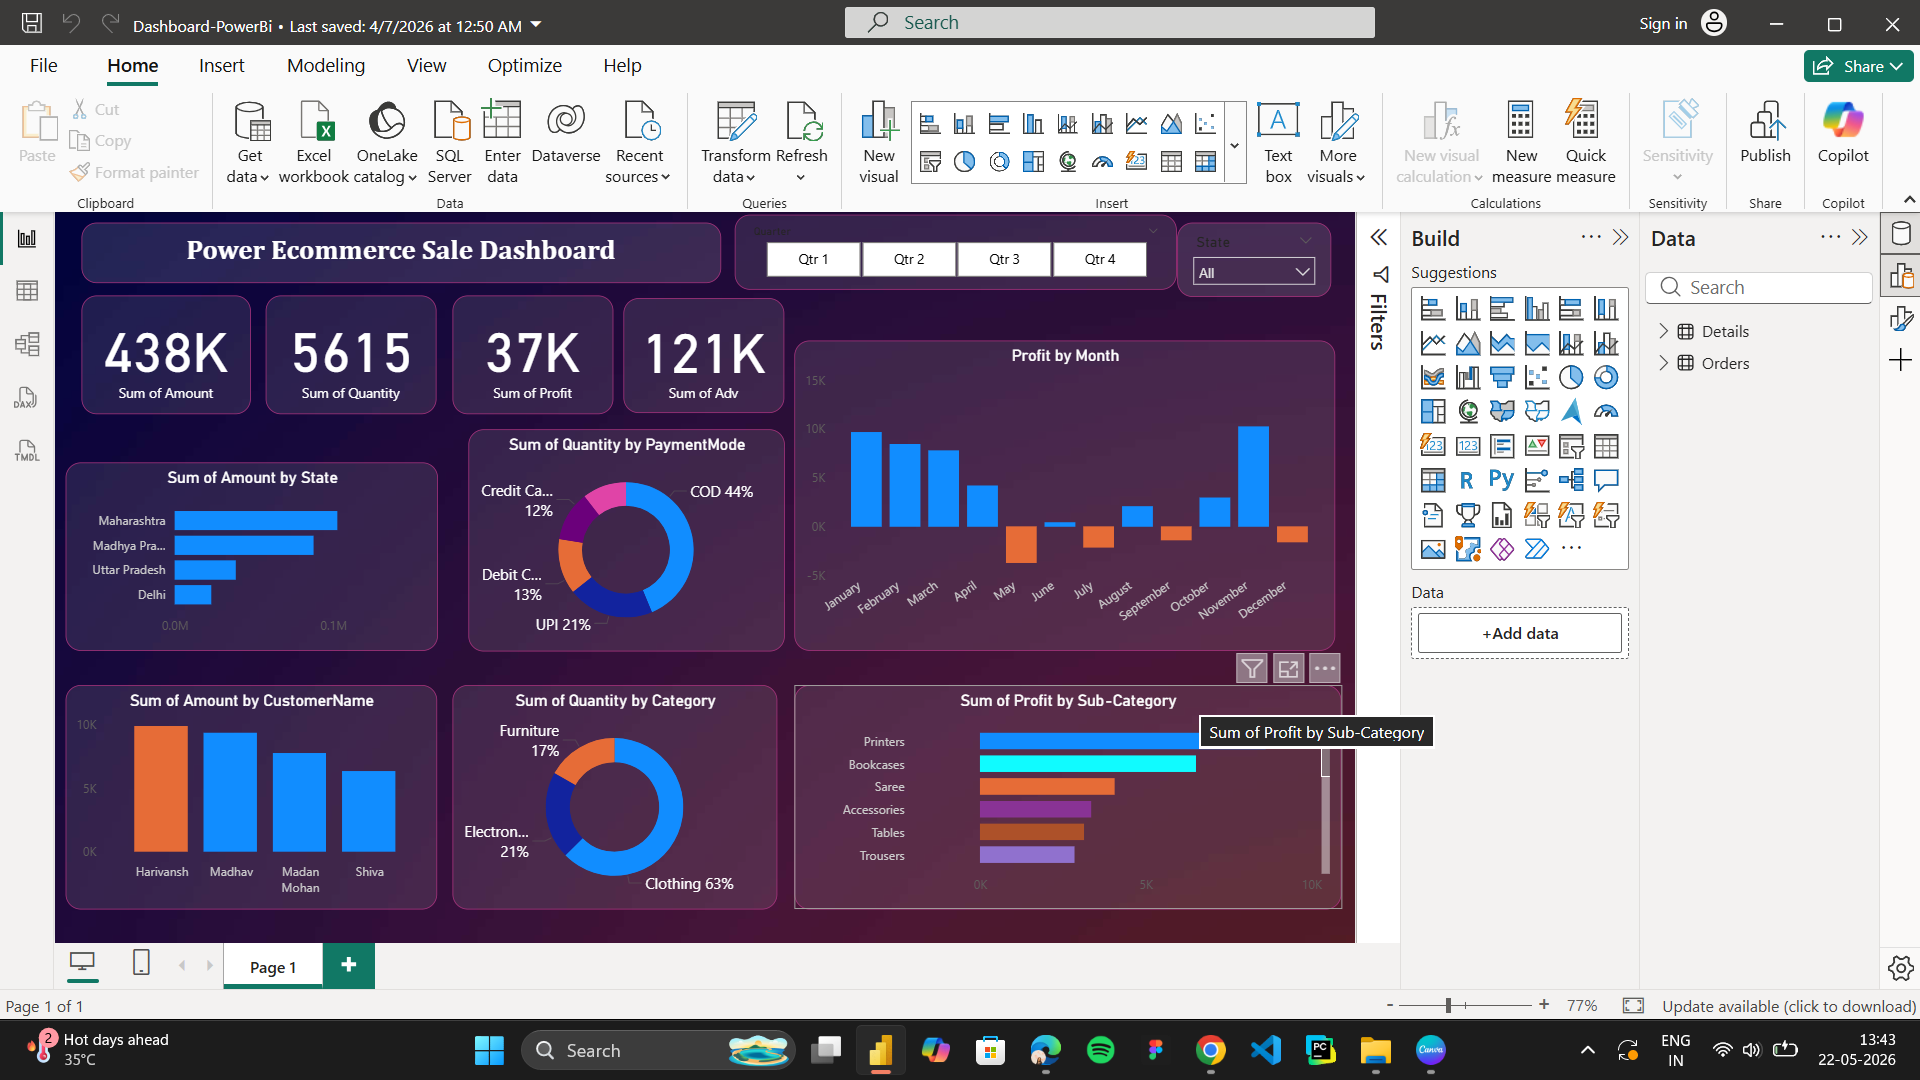

The page's visual inventory and layout, read from the dashboard file:
{"tool":"powerbi","page":{"name":"Page 1","canvas":[1280,720],"ordinal":0},"visuals":[{"type":"textbox","box":[25.7,10,630,60],"z":0},{"type":"columnChart","title":"Profit by Month","fields":{"Category":["Orders.Order Date.Variation.Date Hierarchy.Month"],"Y":["Sum(Details.Profit)"]},"box":[728.6,127.1,532.9,305.7],"z":1000},{"type":"barChart","fields":{"Category":["Details.Sub-Category"],"Y":["Sum(Details.Profit)"]},"box":[728.3,465.7,538.8,221.4],"z":2000},{"type":"donutChart","fields":{"Category":["Details.Category"],"Y":["Sum(Details.Quantity)"]},"box":[391.4,465.7,320,221.4],"z":3000},{"type":"donutChart","fields":{"Y":["Sum(Details.Quantity)"],"Category":["Details.PaymentMode"]},"box":[407.1,214.3,311.4,218.6],"z":4000},{"type":"card","fields":{"Values":["Sum(Details.Amount)"]},"box":[25.7,82.9,167.1,117.1],"z":5000},{"type":"card","fields":{"Values":["Sum(Details.Quantity)"]},"box":[207.1,82.9,168.6,117.1],"z":6000},{"type":"card","fields":{"Values":["Sum(Details.Profit)"]},"box":[391.4,82.9,158.6,117.1],"z":7000},{"type":"card","fields":{"Values":["Sum(Details.Adv)"]},"box":[560,84.3,158.6,112.9],"z":8000},{"type":"barChart","fields":{"Category":["Orders.State"],"Y":["Sum(Details.Amount)"]},"box":[10,247.1,367.1,185.7],"z":9000},{"type":"columnChart","fields":{"Category":["Orders.CustomerName"],"Y":["Sum(Details.Amount)"]},"box":[10,465.7,365.7,221.4],"z":10000},{"type":"slicer","fields":{"Values":["Orders.Order Date.Variation.Date Hierarchy.Quarter"]},"box":[670,2.9,435.7,74.3],"z":11000},{"type":"slicer","fields":{"Values":["Orders.State"]},"box":[1105.7,10,151.4,72.9],"z":12000}]}

Visuals, with their boxes on the page's 1280x720 design canvas (x1, y1, x2, y2). These are canvas units, not pixel positions in the 1920x1080 screenshot, which may show the page scaled, cropped or inside an application window:
textbox: box=[26, 10, 656, 70]
"Profit by Month" columnChart: box=[729, 127, 1262, 433]
barChart - Details.Sub-Category x Sum(Details.Profit): box=[728, 466, 1267, 687]
donutChart - Details.Category x Sum(Details.Quantity): box=[391, 466, 711, 687]
donutChart - Sum(Details.Quantity) x Details.PaymentMode: box=[407, 214, 718, 433]
card - Sum(Details.Amount): box=[26, 83, 193, 200]
card - Sum(Details.Quantity): box=[207, 83, 376, 200]
card - Sum(Details.Profit): box=[391, 83, 550, 200]
card - Sum(Details.Adv): box=[560, 84, 719, 197]
barChart - Orders.State x Sum(Details.Amount): box=[10, 247, 377, 433]
columnChart - Orders.CustomerName x Sum(Details.Amount): box=[10, 466, 376, 687]
slicer - Orders.Order Date.Variation.Date Hierarchy.Quarter: box=[670, 3, 1106, 77]
slicer - Orders.State: box=[1106, 10, 1257, 83]
